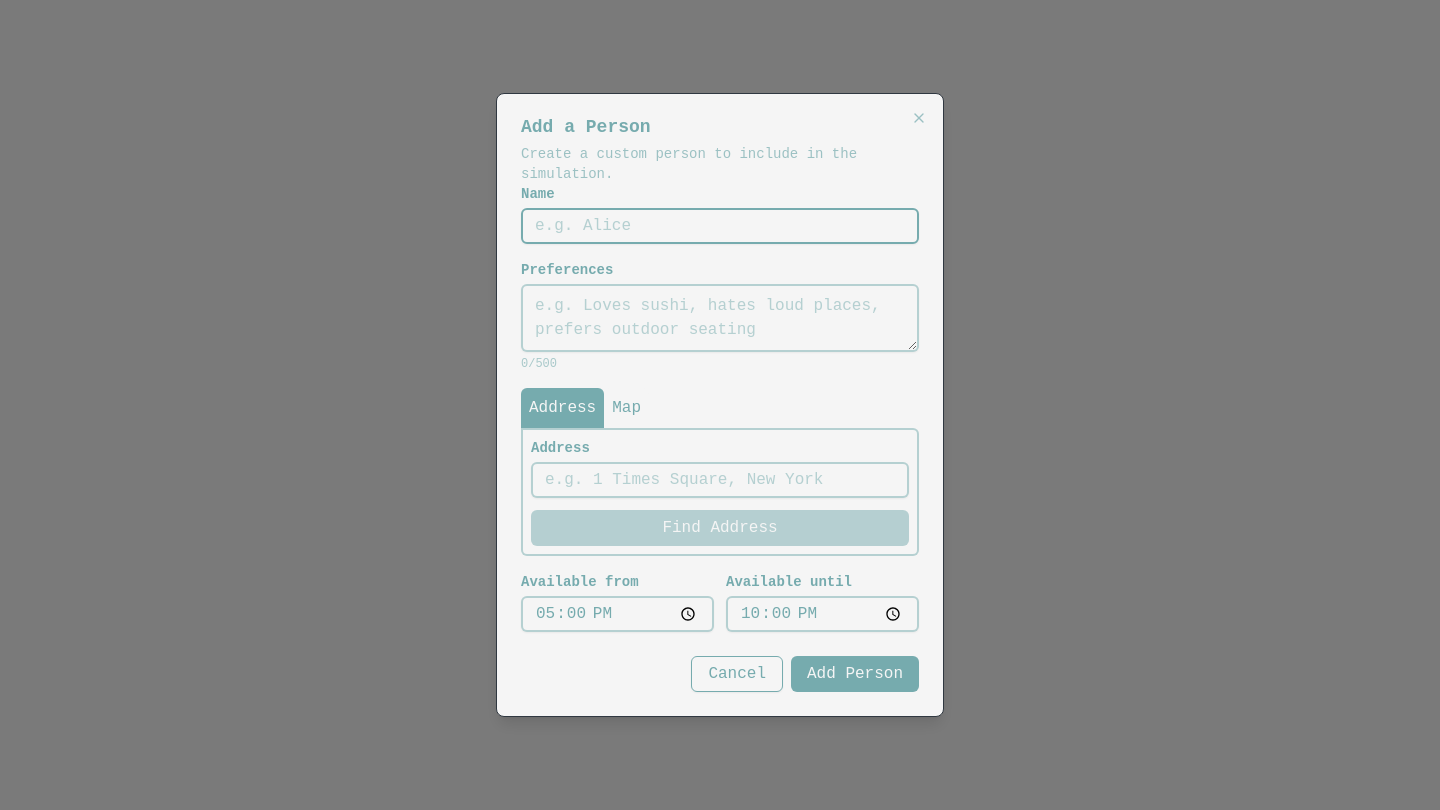
AddPersonDialog › blocks submission until a location has been chosen
The image size is (1440, 810).
In the field labelled "Name": (720, 226) [521, 208, 919, 244], type "Alice"
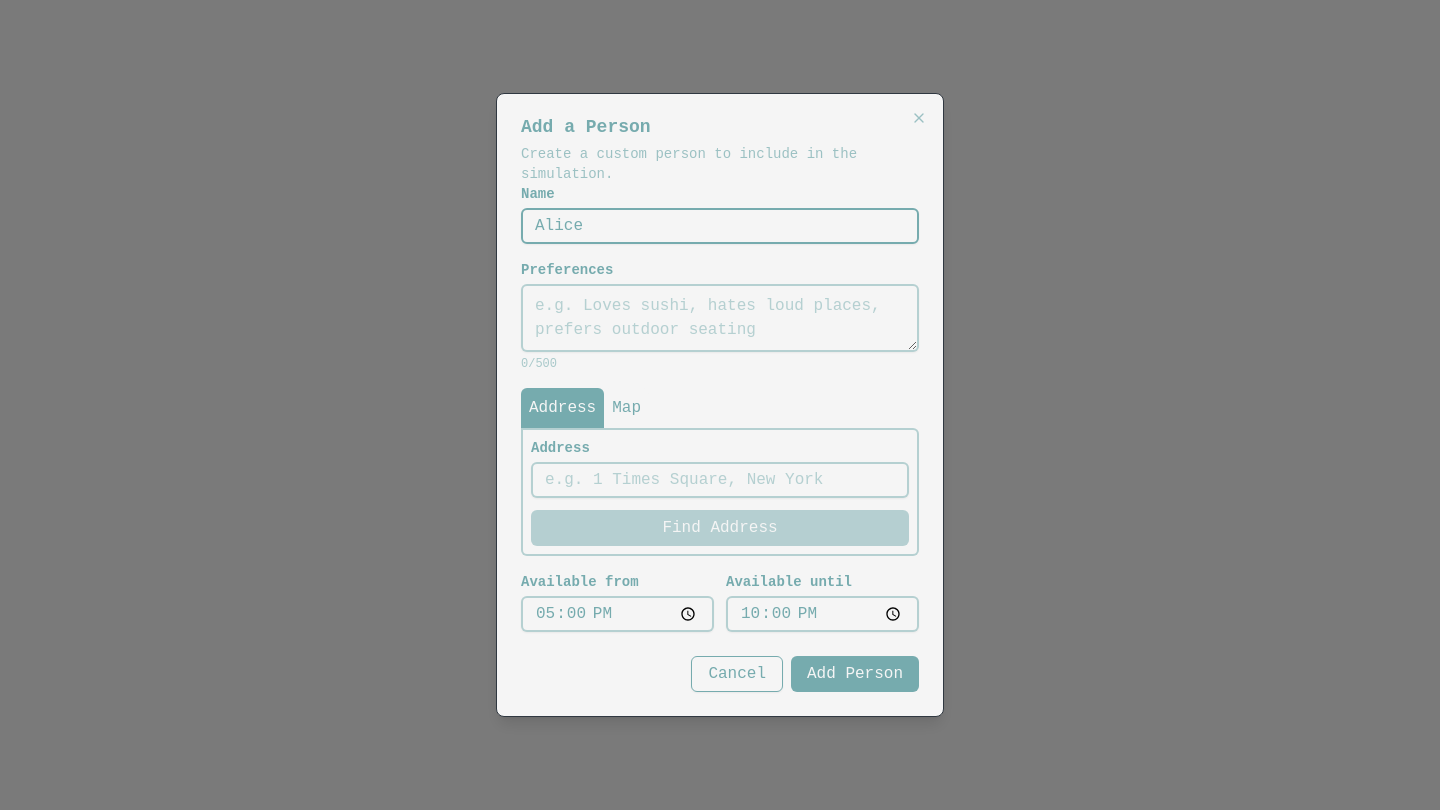
In the text box labelled "Preferences": (720, 318) [521, 284, 919, 352], type "Loves sushi"
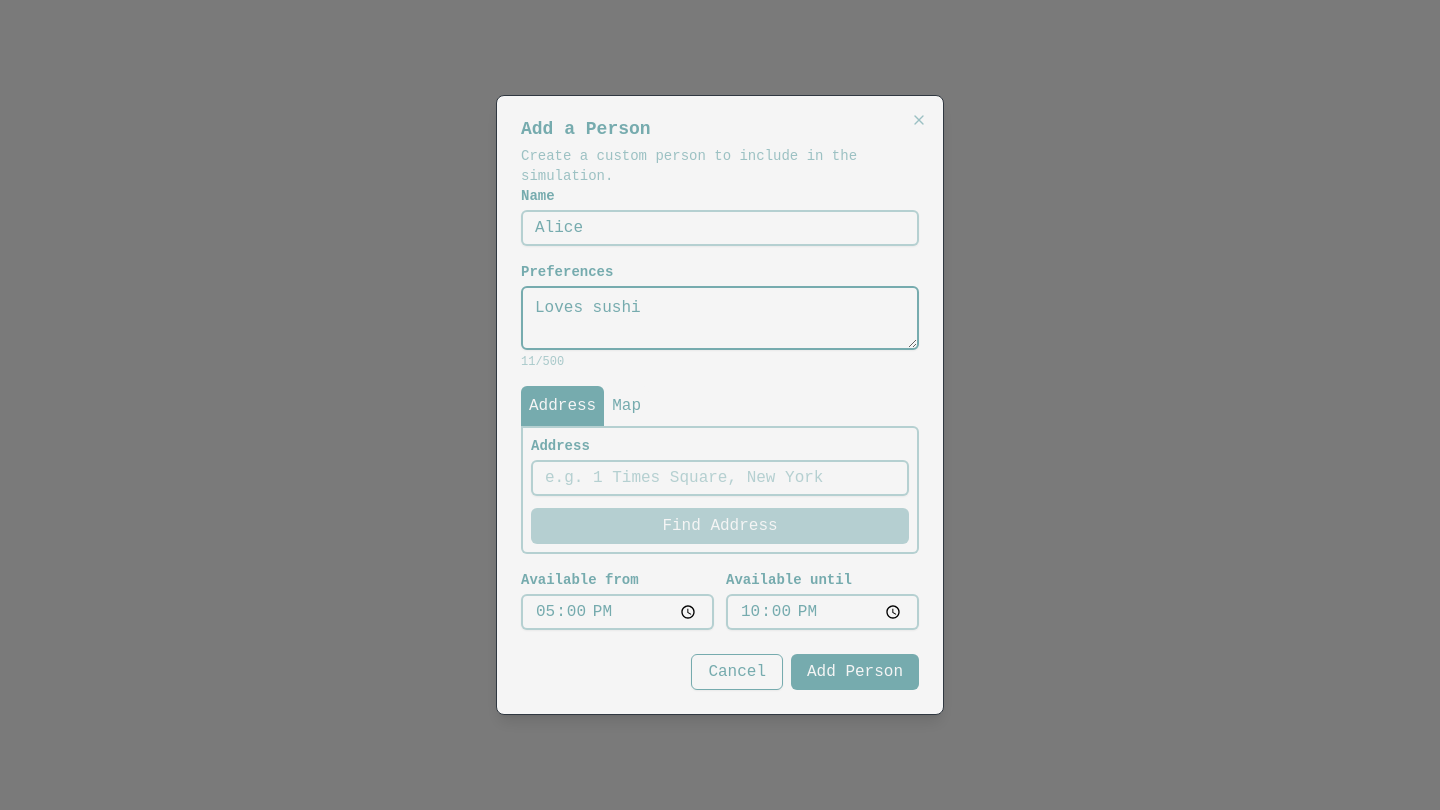
Click the button "Add Person": (855, 672) [791, 654, 919, 690]
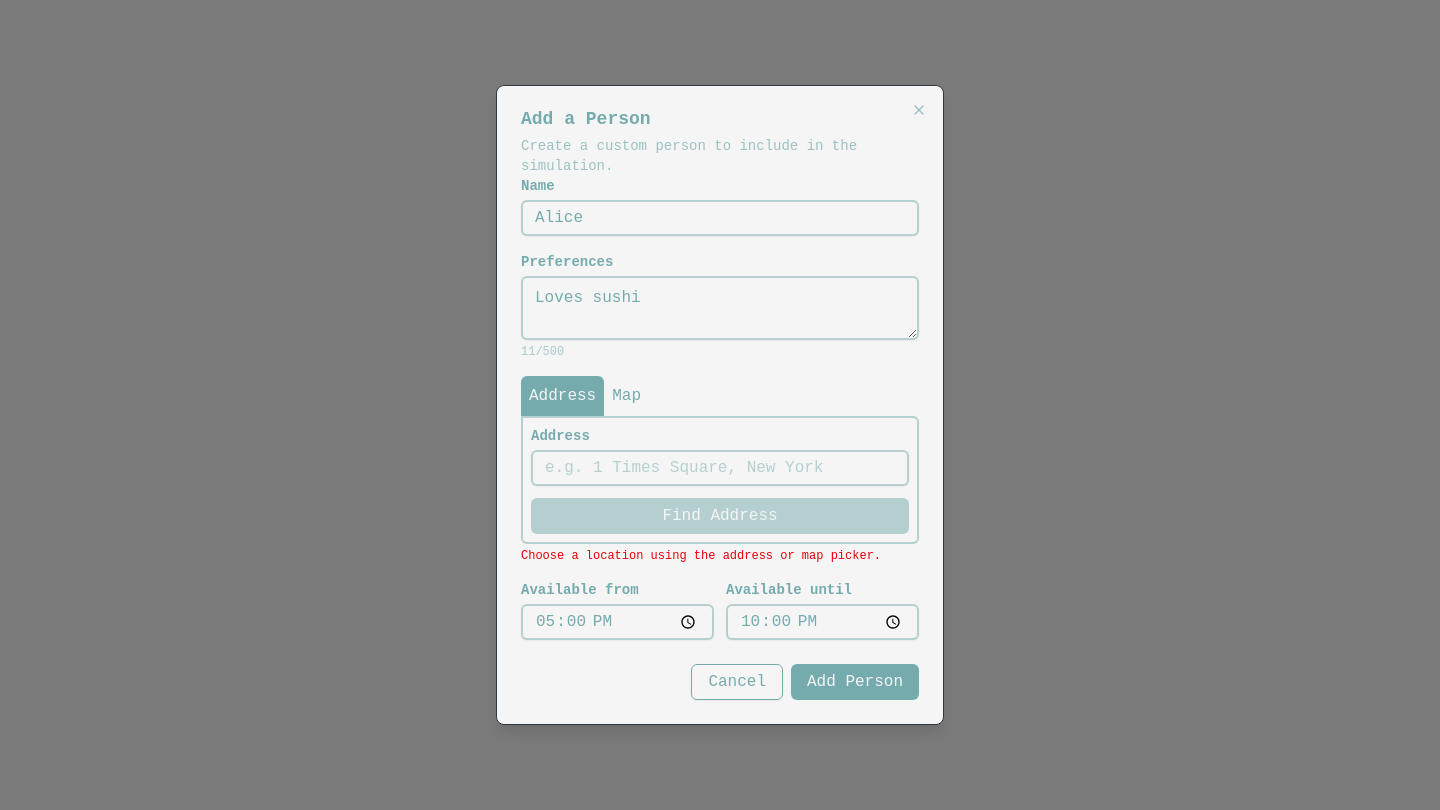
Expected: the text "Choose a location using the address or map picker." is shown, [521, 548, 919, 564]
